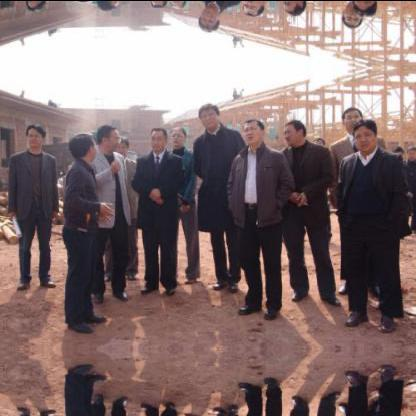No Helmet: (350, 115, 380, 153), (238, 112, 266, 148), (66, 130, 95, 164), (92, 122, 119, 154), (281, 116, 307, 146), (21, 121, 45, 152), (196, 2, 219, 34), (196, 99, 219, 130), (339, 102, 361, 132), (145, 122, 167, 152), (339, 0, 361, 30), (238, 0, 267, 21), (350, 0, 380, 18), (169, 124, 189, 150), (280, 0, 308, 16), (20, 0, 46, 12), (116, 133, 128, 157), (92, 0, 120, 10), (144, 0, 168, 11), (168, 0, 190, 8)
